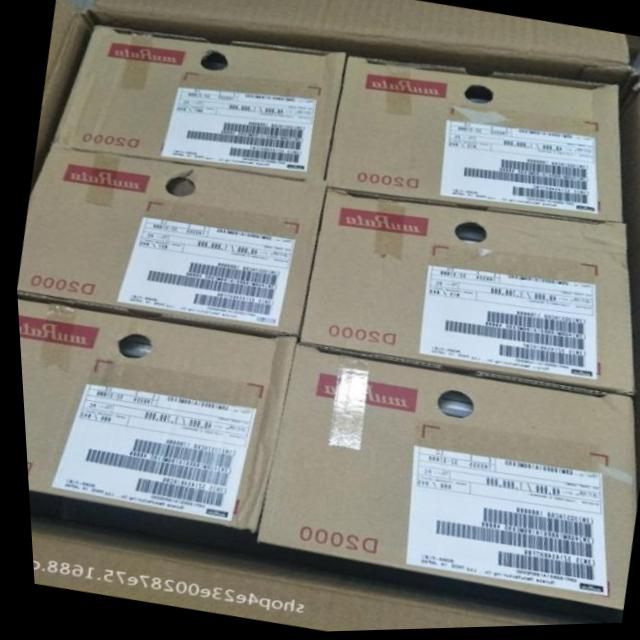box: (251, 341, 631, 616), (292, 189, 629, 398), (14, 296, 294, 534), (15, 144, 324, 341), (324, 58, 619, 225), (53, 25, 346, 185)
